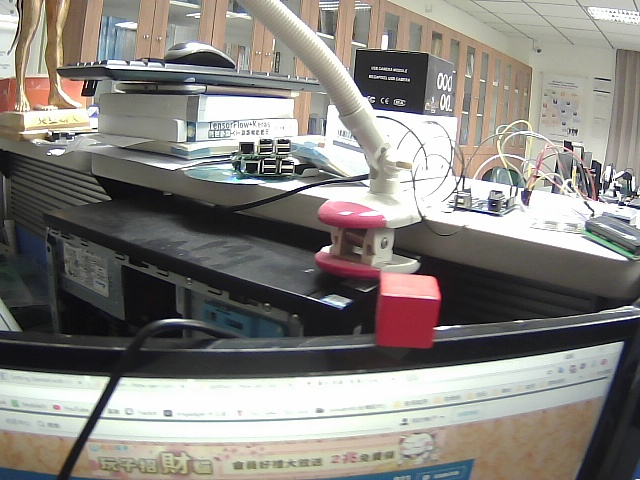redbox: (363, 265, 453, 357)
